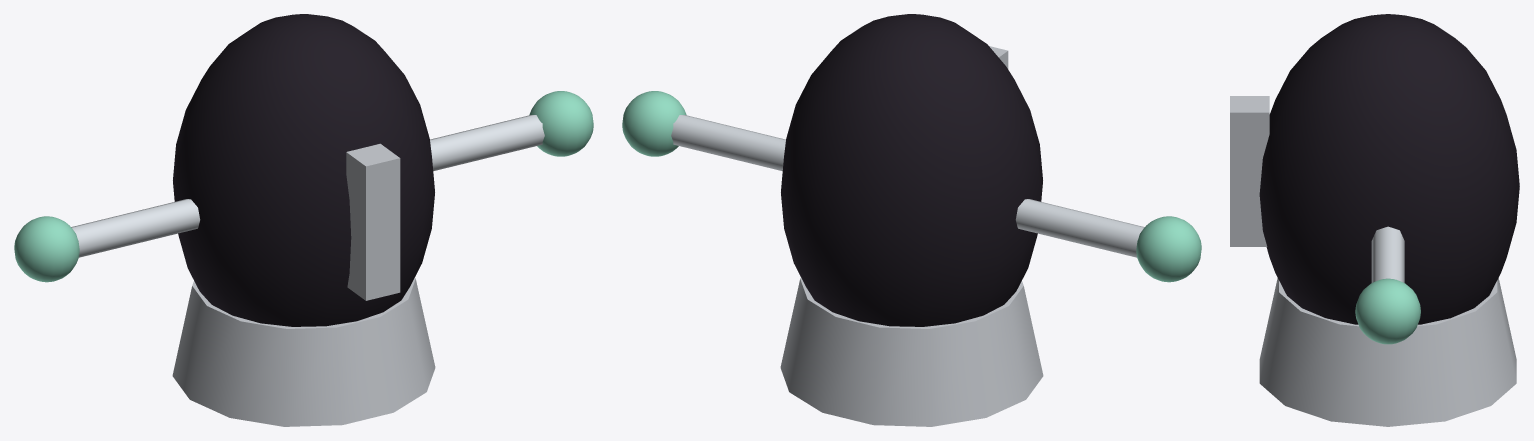
Rendered from hairtop_m.glb.
3 renders of one model, left to right at view 1: azimuth 30°, elevation 25°; view 2: azimuth 150°, elevation 25°; view 3: azimuth 270°, elevation 25°, orthographic.
Bounding box in the file's own units: 0.43 × 0.2516 × 0.1892.
